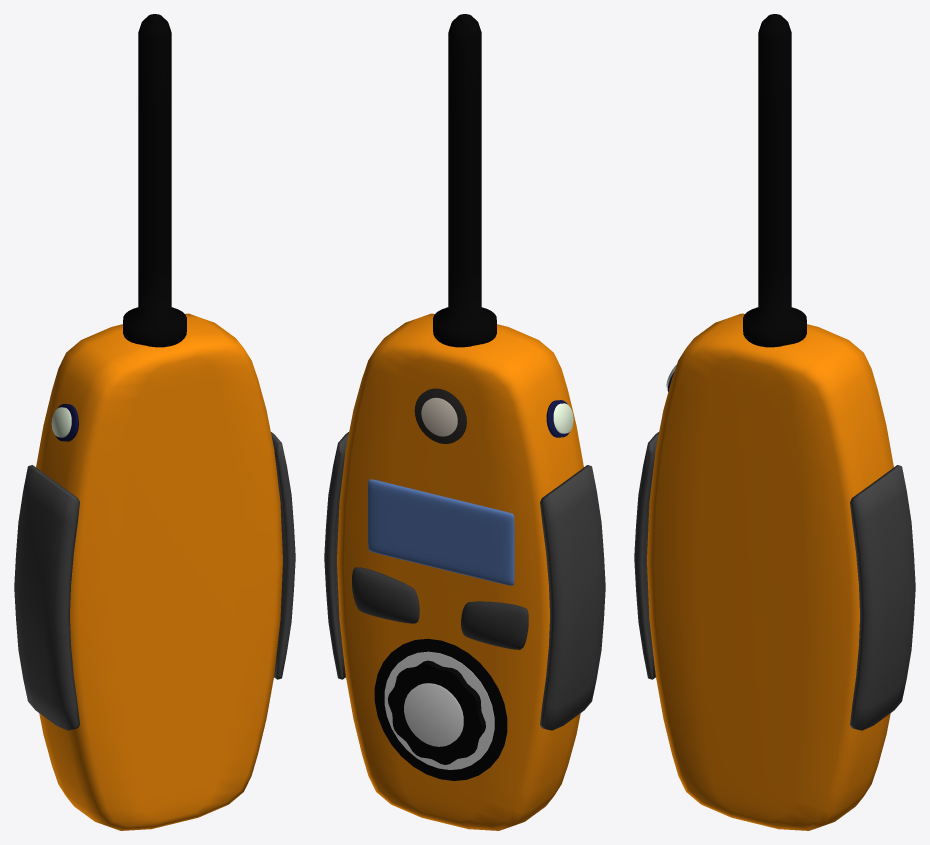
The model's file is Device.fbx.
3 renders of one model, left to right at view 1: azimuth 30°, elevation 25°; view 2: azimuth 150°, elevation 25°; view 3: azimuth 330°, elevation 25°, orthographic.
Parts seen in each view (by area): view 1: Device, Handle, Antenna; view 2: Device, Handle, Antenna, Screen, Cylinder, Cylinder.002, Cylinder.003, Cylinder.001, Button.002, Button.001, Light.001, Light (+1 smaller); view 3: Device, Handle, Antenna.
Boxes of the visible parts, x1,y1,x2,y2 form: Device: (36, 313, 282, 830); Handle: (14, 432, 295, 730); Antenna: (123, 14, 186, 347); Device: (337, 313, 583, 830); Handle: (324, 432, 605, 730); Antenna: (433, 14, 496, 347); Screen: (368, 479, 514, 585); Cylinder: (374, 638, 507, 780); Cylinder.002: (388, 660, 485, 764); Cylinder.003: (404, 683, 463, 746); Cylinder.001: (384, 651, 494, 769); Button.002: (352, 567, 419, 623); Button.001: (461, 601, 528, 649); Light.001: (414, 388, 466, 443); Light: (421, 397, 457, 436); Device: (647, 313, 893, 830); Handle: (634, 432, 915, 730); Antenna: (743, 14, 806, 347).
Bounding box in the file's own units: 13.84 × 42.97 × 5.41.
